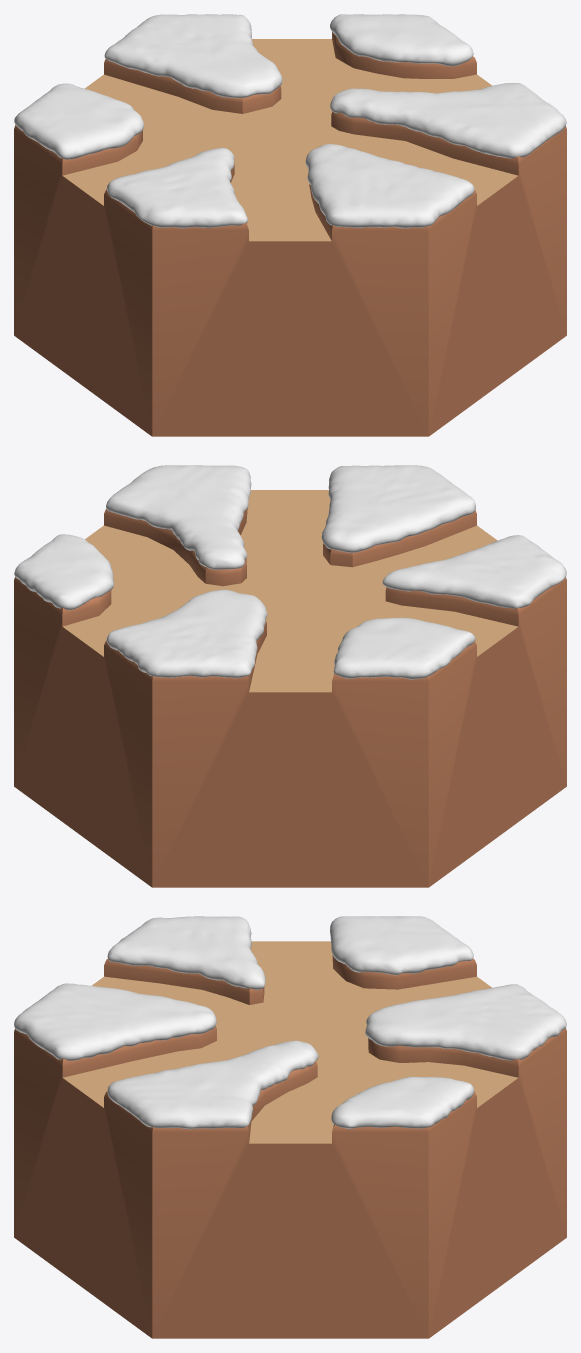
Rendered from hex_rock_roadM.fbx.
3 renders of one model, top to bottom at view 1: azimuth 30°, elevation 25°; view 2: azimuth 150°, elevation 25°; view 3: azimuth 270°, elevation 25°, orthographic.
Visible parts, largest first — view 1: hex_rock_roadM.001, SnowBall.001, hex_rock_roadM; view 2: hex_rock_roadM.001, SnowBall.001, hex_rock_roadM; view 3: hex_rock_roadM.001, SnowBall.001, hex_rock_roadM.
Boxes of the visible parts, x1,y1,x2,y2 form: hex_rock_roadM.001: [14, 32, 566, 436]; SnowBall.001: [14, 14, 566, 228]; hex_rock_roadM: [63, 39, 517, 241]; hex_rock_roadM.001: [14, 508, 566, 887]; SnowBall.001: [14, 465, 566, 679]; hex_rock_roadM: [63, 490, 517, 692]; hex_rock_roadM.001: [14, 955, 566, 1338]; SnowBall.001: [14, 916, 566, 1129]; hex_rock_roadM: [63, 941, 518, 1143].
Bounding box in the file's own units: 203 × 104 × 231.
